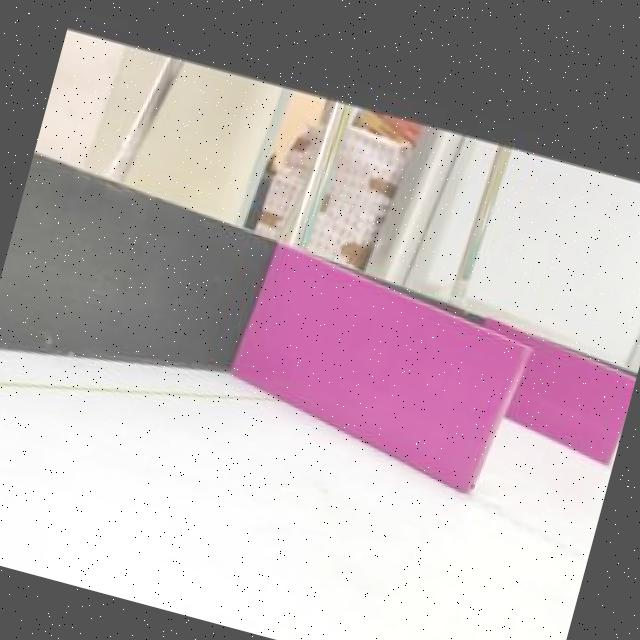xparking: (234, 276, 516, 474), (516, 355, 635, 460)
